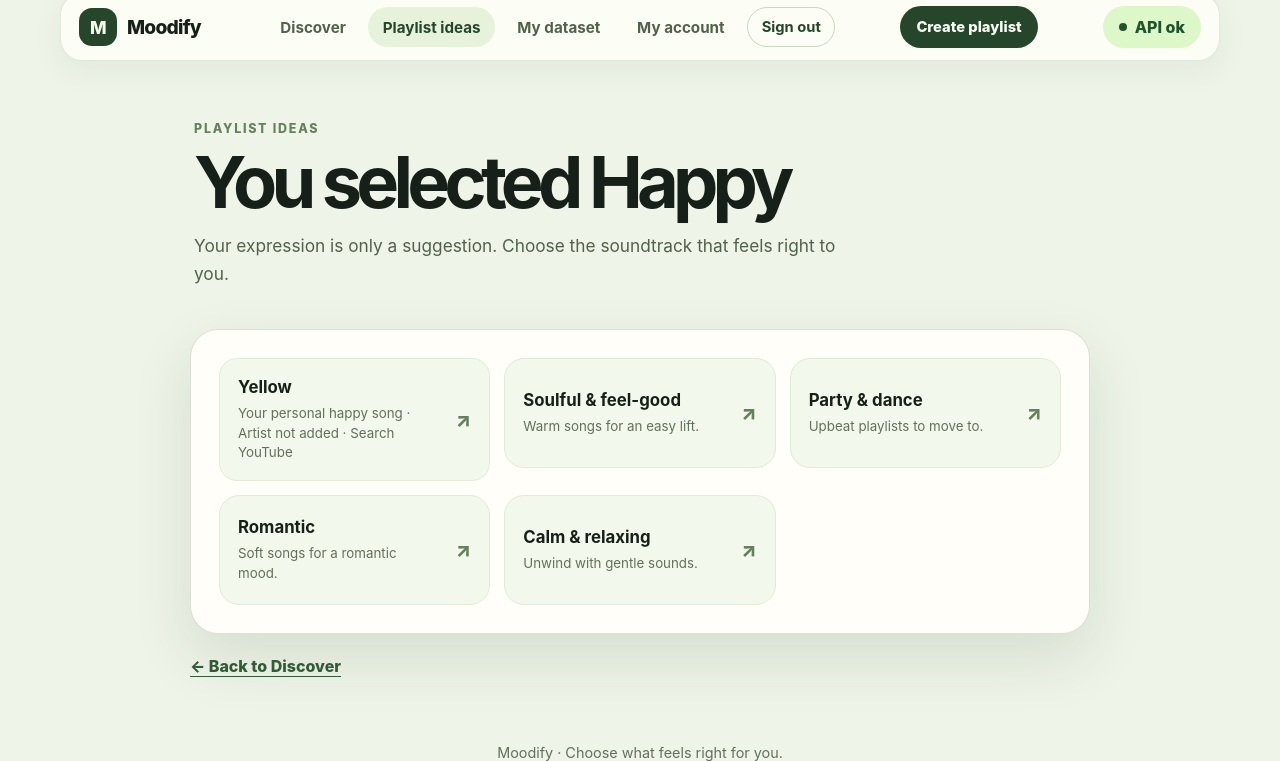
Test: mood playlist choices › keeps Playlist Ideas read-only while Create Playlist can add and remove songs
Expected: the button "Remove" is not shown
Click the link "Create playlist" at (969, 27), box x1=900 y1=6 x2=1038 y2=48
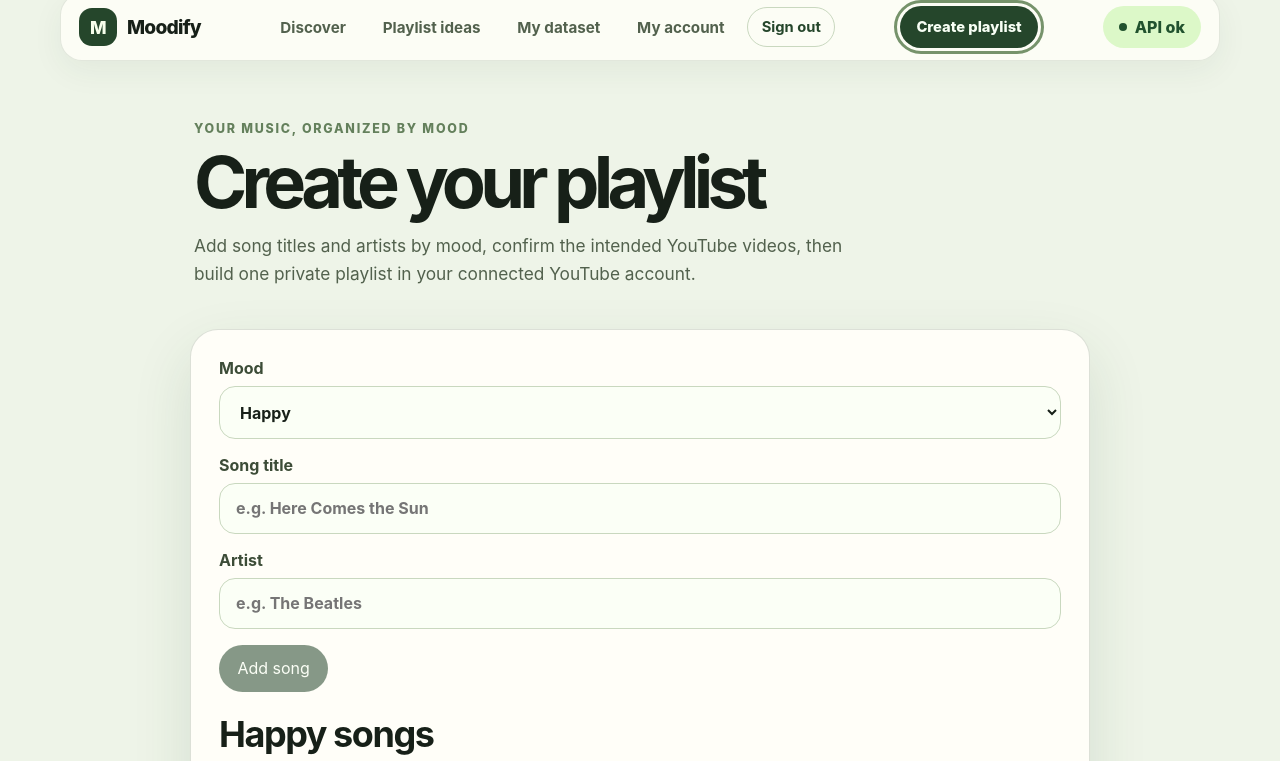
Expected: the heading "Create your playlist" is shown, x1=194 y1=138 x2=763 y2=225
Expected: the dropdown labelled "Mood" shows "Happy", x1=219 y1=386 x2=1061 y2=439
Type "Here Comes the Sun" into the field labelled "Song title" at (640, 508), box x1=219 y1=483 x2=1061 y2=534
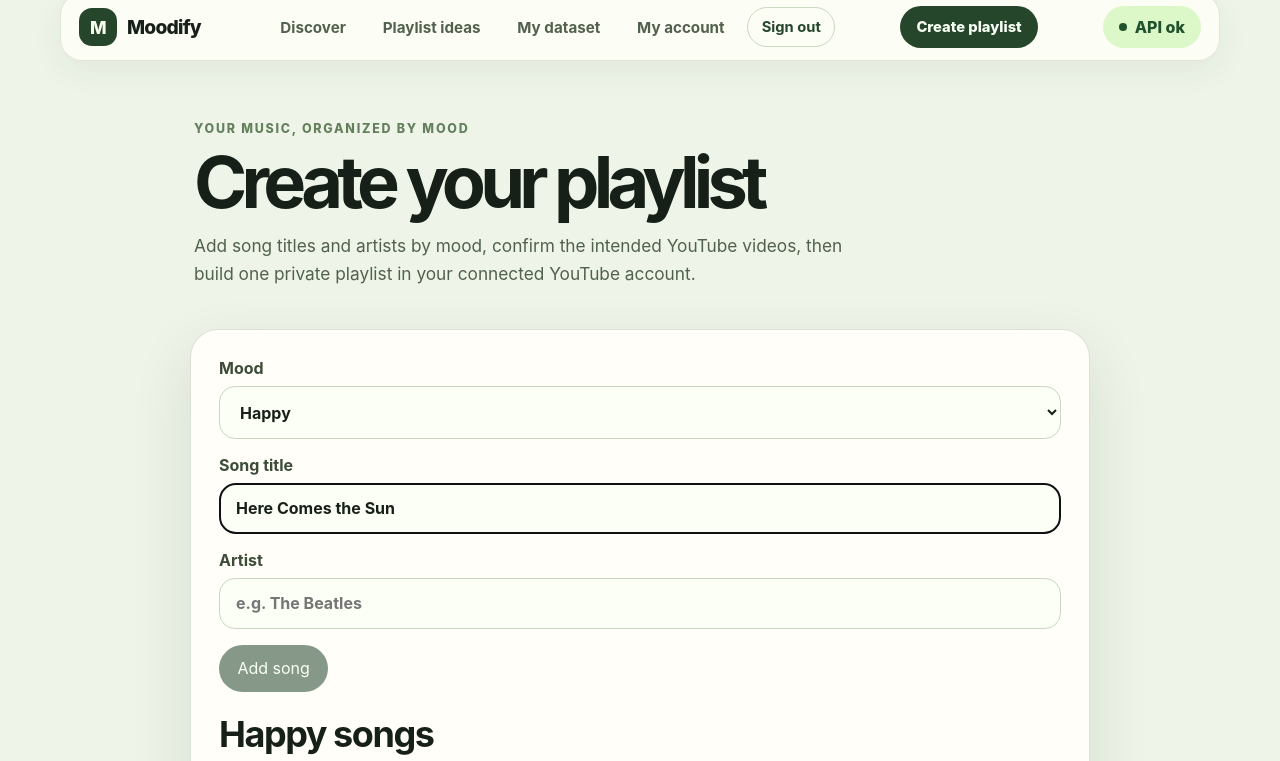
Type "The Beatles" into the field labelled "Artist" at (640, 603), box x1=219 y1=578 x2=1061 y2=629
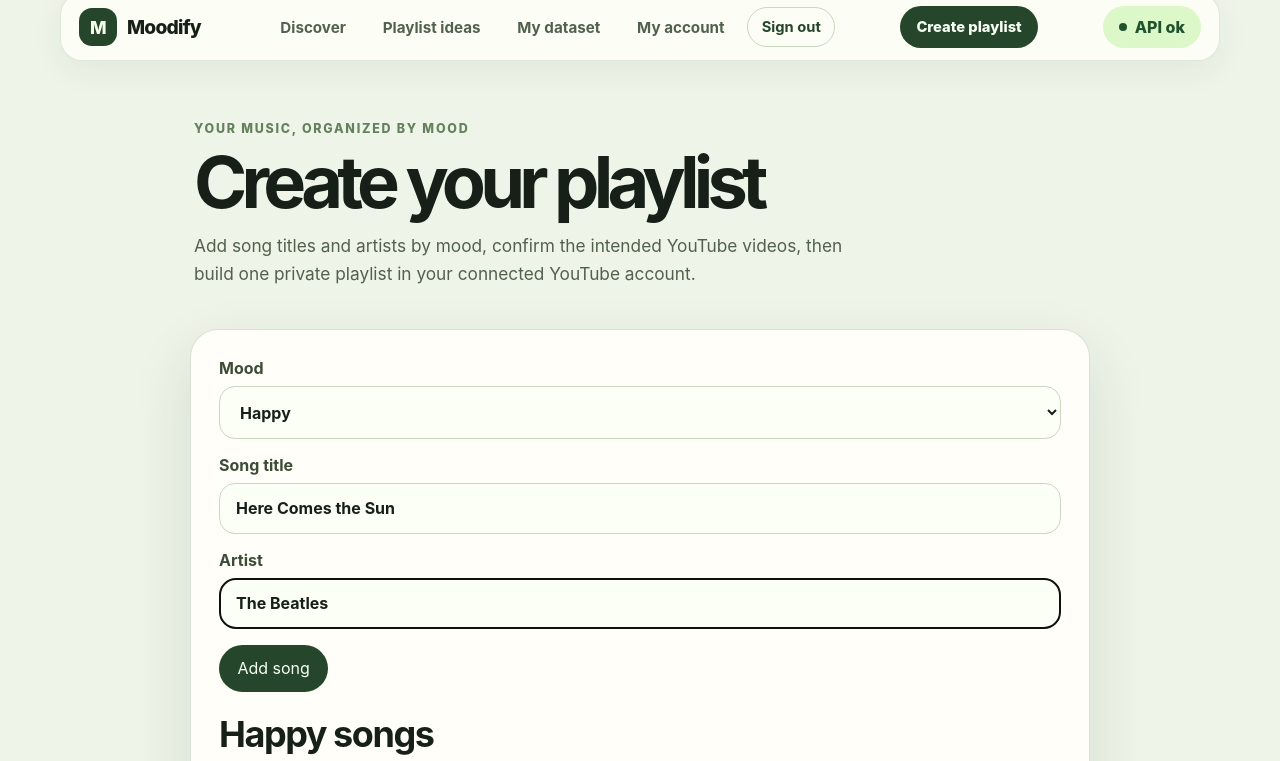
Click the button "Add song" at (274, 668), box x1=219 y1=645 x2=328 y2=692
(page scrolled)
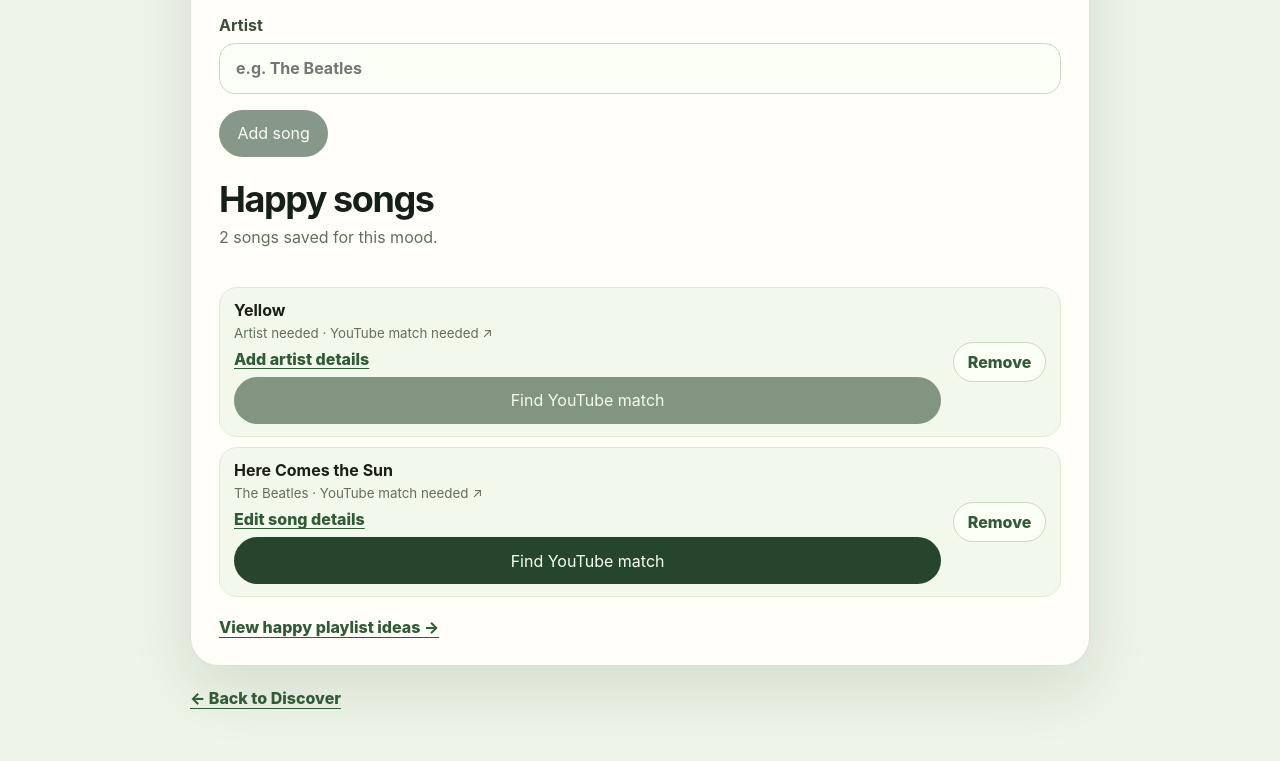
Expected: the link "Here Comes the Sun The Beatles · YouTube match needed ↗" is shown, x1=234 y1=460 x2=482 y2=501
Click the 1st button "Remove" at (1000, 362), box x1=953 y1=342 x2=1046 y2=382
(page scrolled)
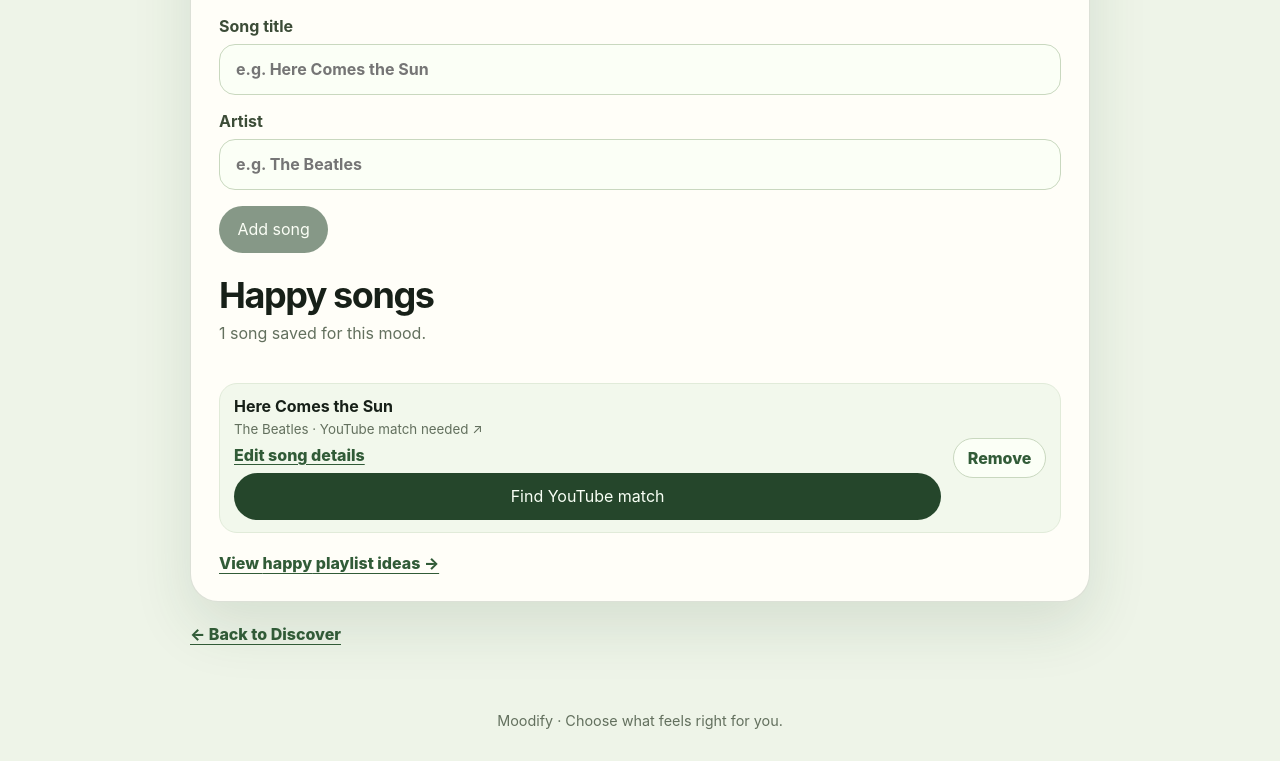
Expected: the link "Yellow" is gone
